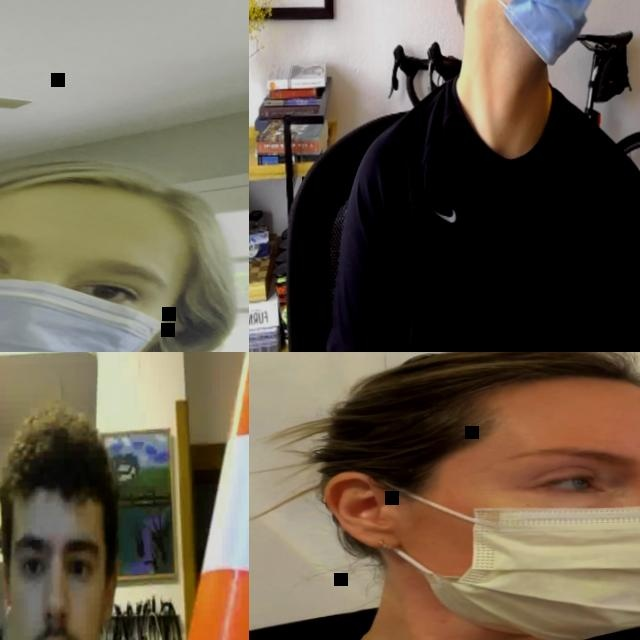Mask: (377, 470, 640, 640), (0, 267, 173, 352), (459, 0, 590, 62)
NO-Hardhat: (319, 352, 640, 441), (0, 163, 229, 252), (5, 407, 111, 523)
NO-Safety Vest: (382, 82, 621, 352)
Person: (318, 0, 640, 352), (249, 352, 640, 640), (0, 401, 249, 640), (0, 159, 249, 352)
Safety Cone: (113, 352, 249, 640)
